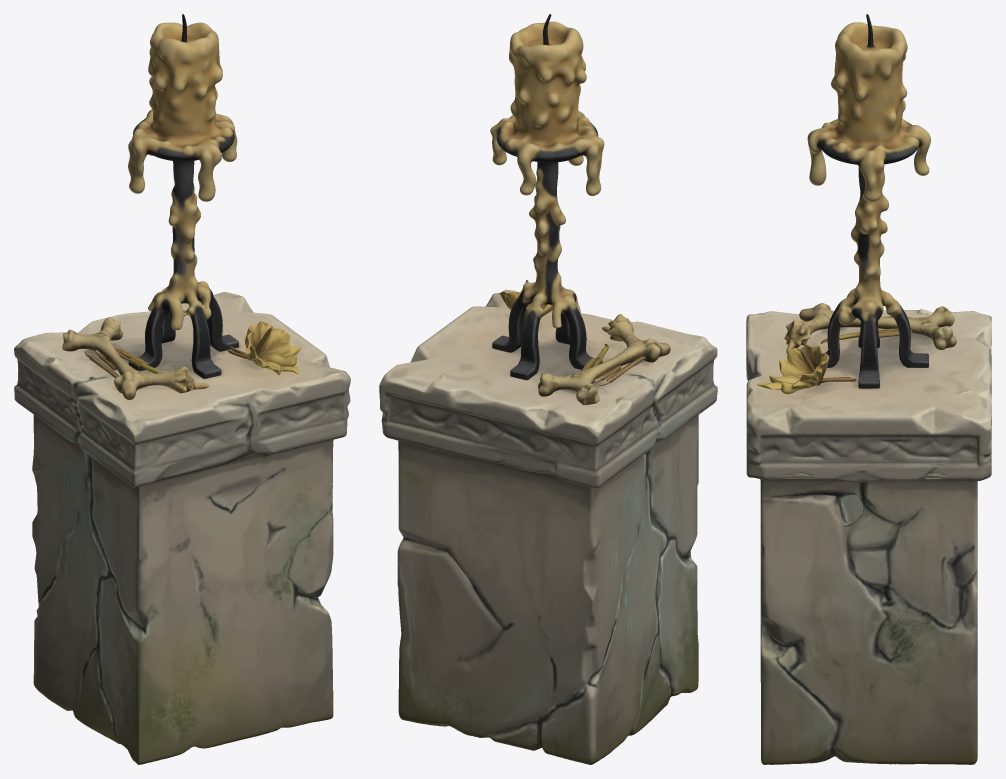
The model's file is rest_shrine.glb.
3 renders of one model, left to right at view 1: azimuth 30°, elevation 25°; view 2: azimuth 150°, elevation 25°; view 3: azimuth 270°, elevation 25°, orthographic.
Parts seen in each view (by area): view 1: world; view 2: world; view 3: world.
Boxes of the visible parts, x1=… form: world: x1=14, y1=14, x2=350, y2=764; world: x1=379, y1=14, x2=717, y2=764; world: x1=746, y1=14, x2=991, y2=764.
Bounding box in the file's own units: 0.3325 × 0.9977 × 0.3154.
Materials: 1 (1 with a texture image).
